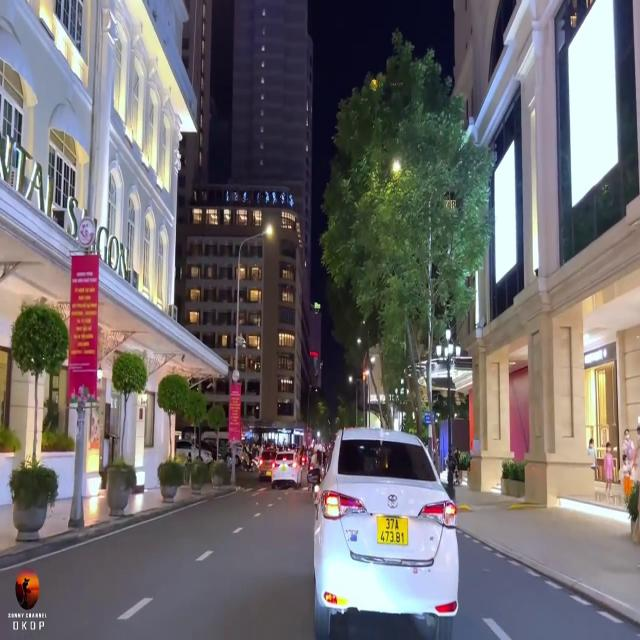bien_vang: (377, 514, 409, 548)
